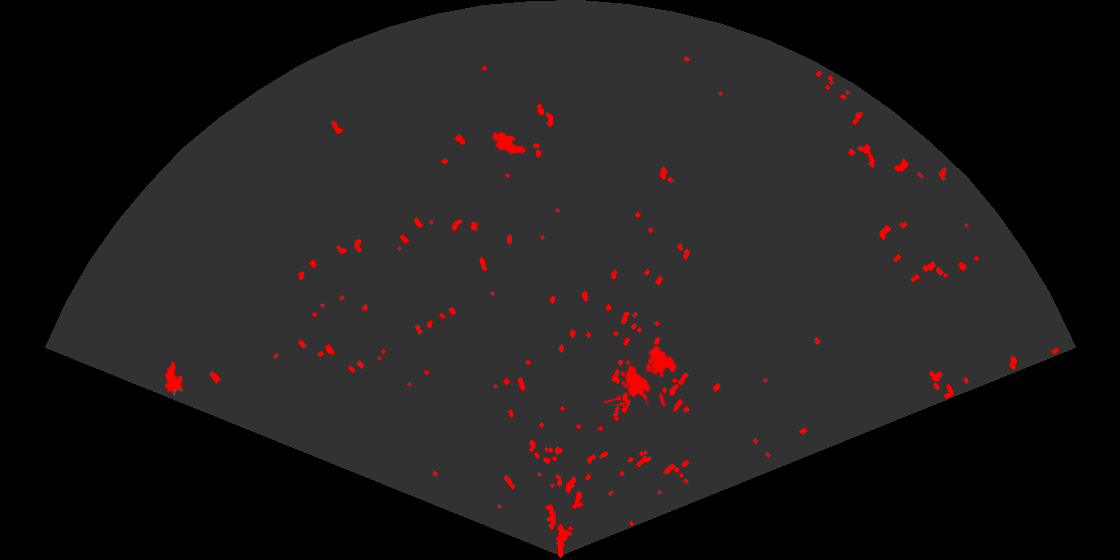AUV: (490, 130, 528, 156), (163, 360, 185, 397)
cage: (604, 344, 679, 406)
